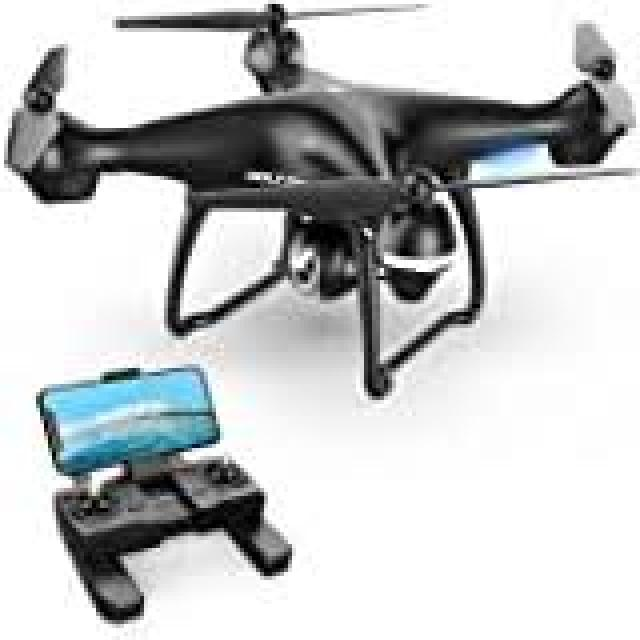drone: (0, 0, 640, 420)
